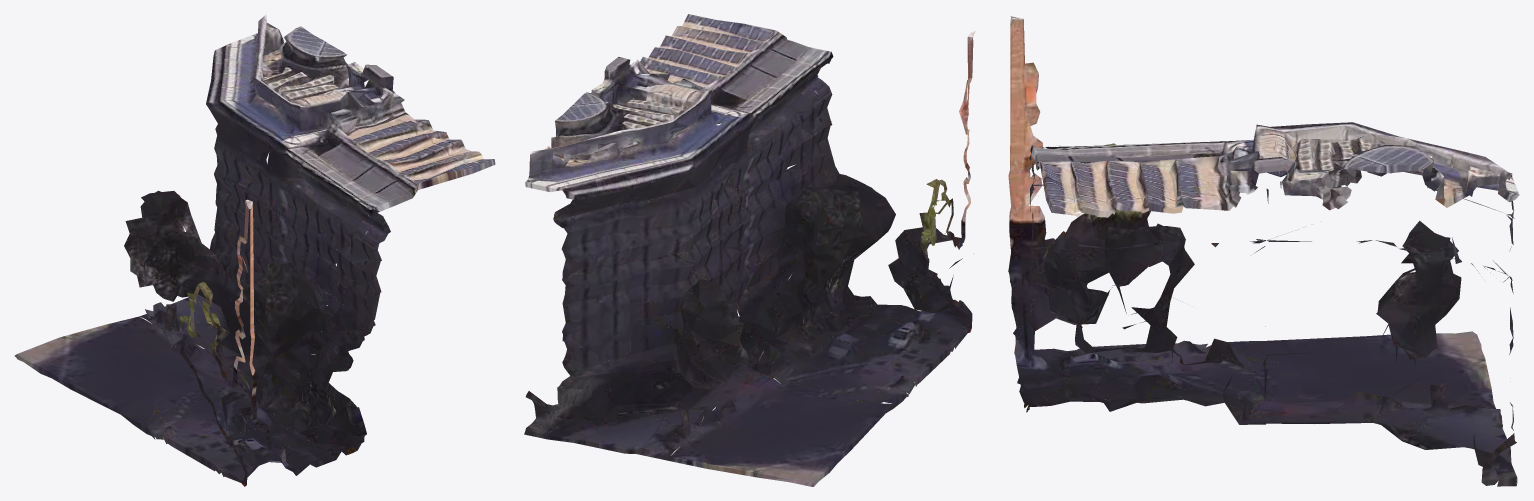
3 views of the same model, side by side, from view 1: azimuth 30°, elevation 25°; view 2: azimuth 150°, elevation 25°; view 3: azimuth 270°, elevation 25° (orthographic). The views are drawn at different scales.
Visible parts, largest first — view 1: Mesh_0; view 2: Mesh_0; view 3: Mesh_0.
Part boxes in pixels (x1=…): Mesh_0: x1=14, y1=14, x2=495, y2=486; Mesh_0: x1=524, y1=14, x2=975, y2=486; Mesh_0: x1=1008, y1=16, x2=1519, y2=486.
Size of the model in its own units: 33.29 by 31.05 by 41.61.
2 materials, 2 textured.
